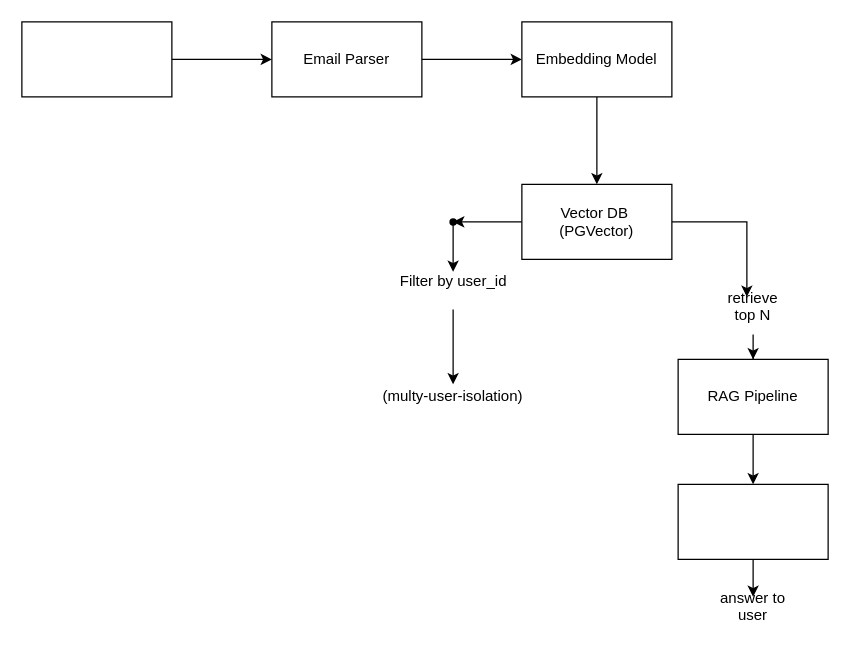
Some shapes in this 850 by 664 pixel diagram are drawn without their labels. Each missing label, with the box of its shape:
Gmail API: (21, 21, 172, 97)
Local LLM: (677, 483, 828, 559)
